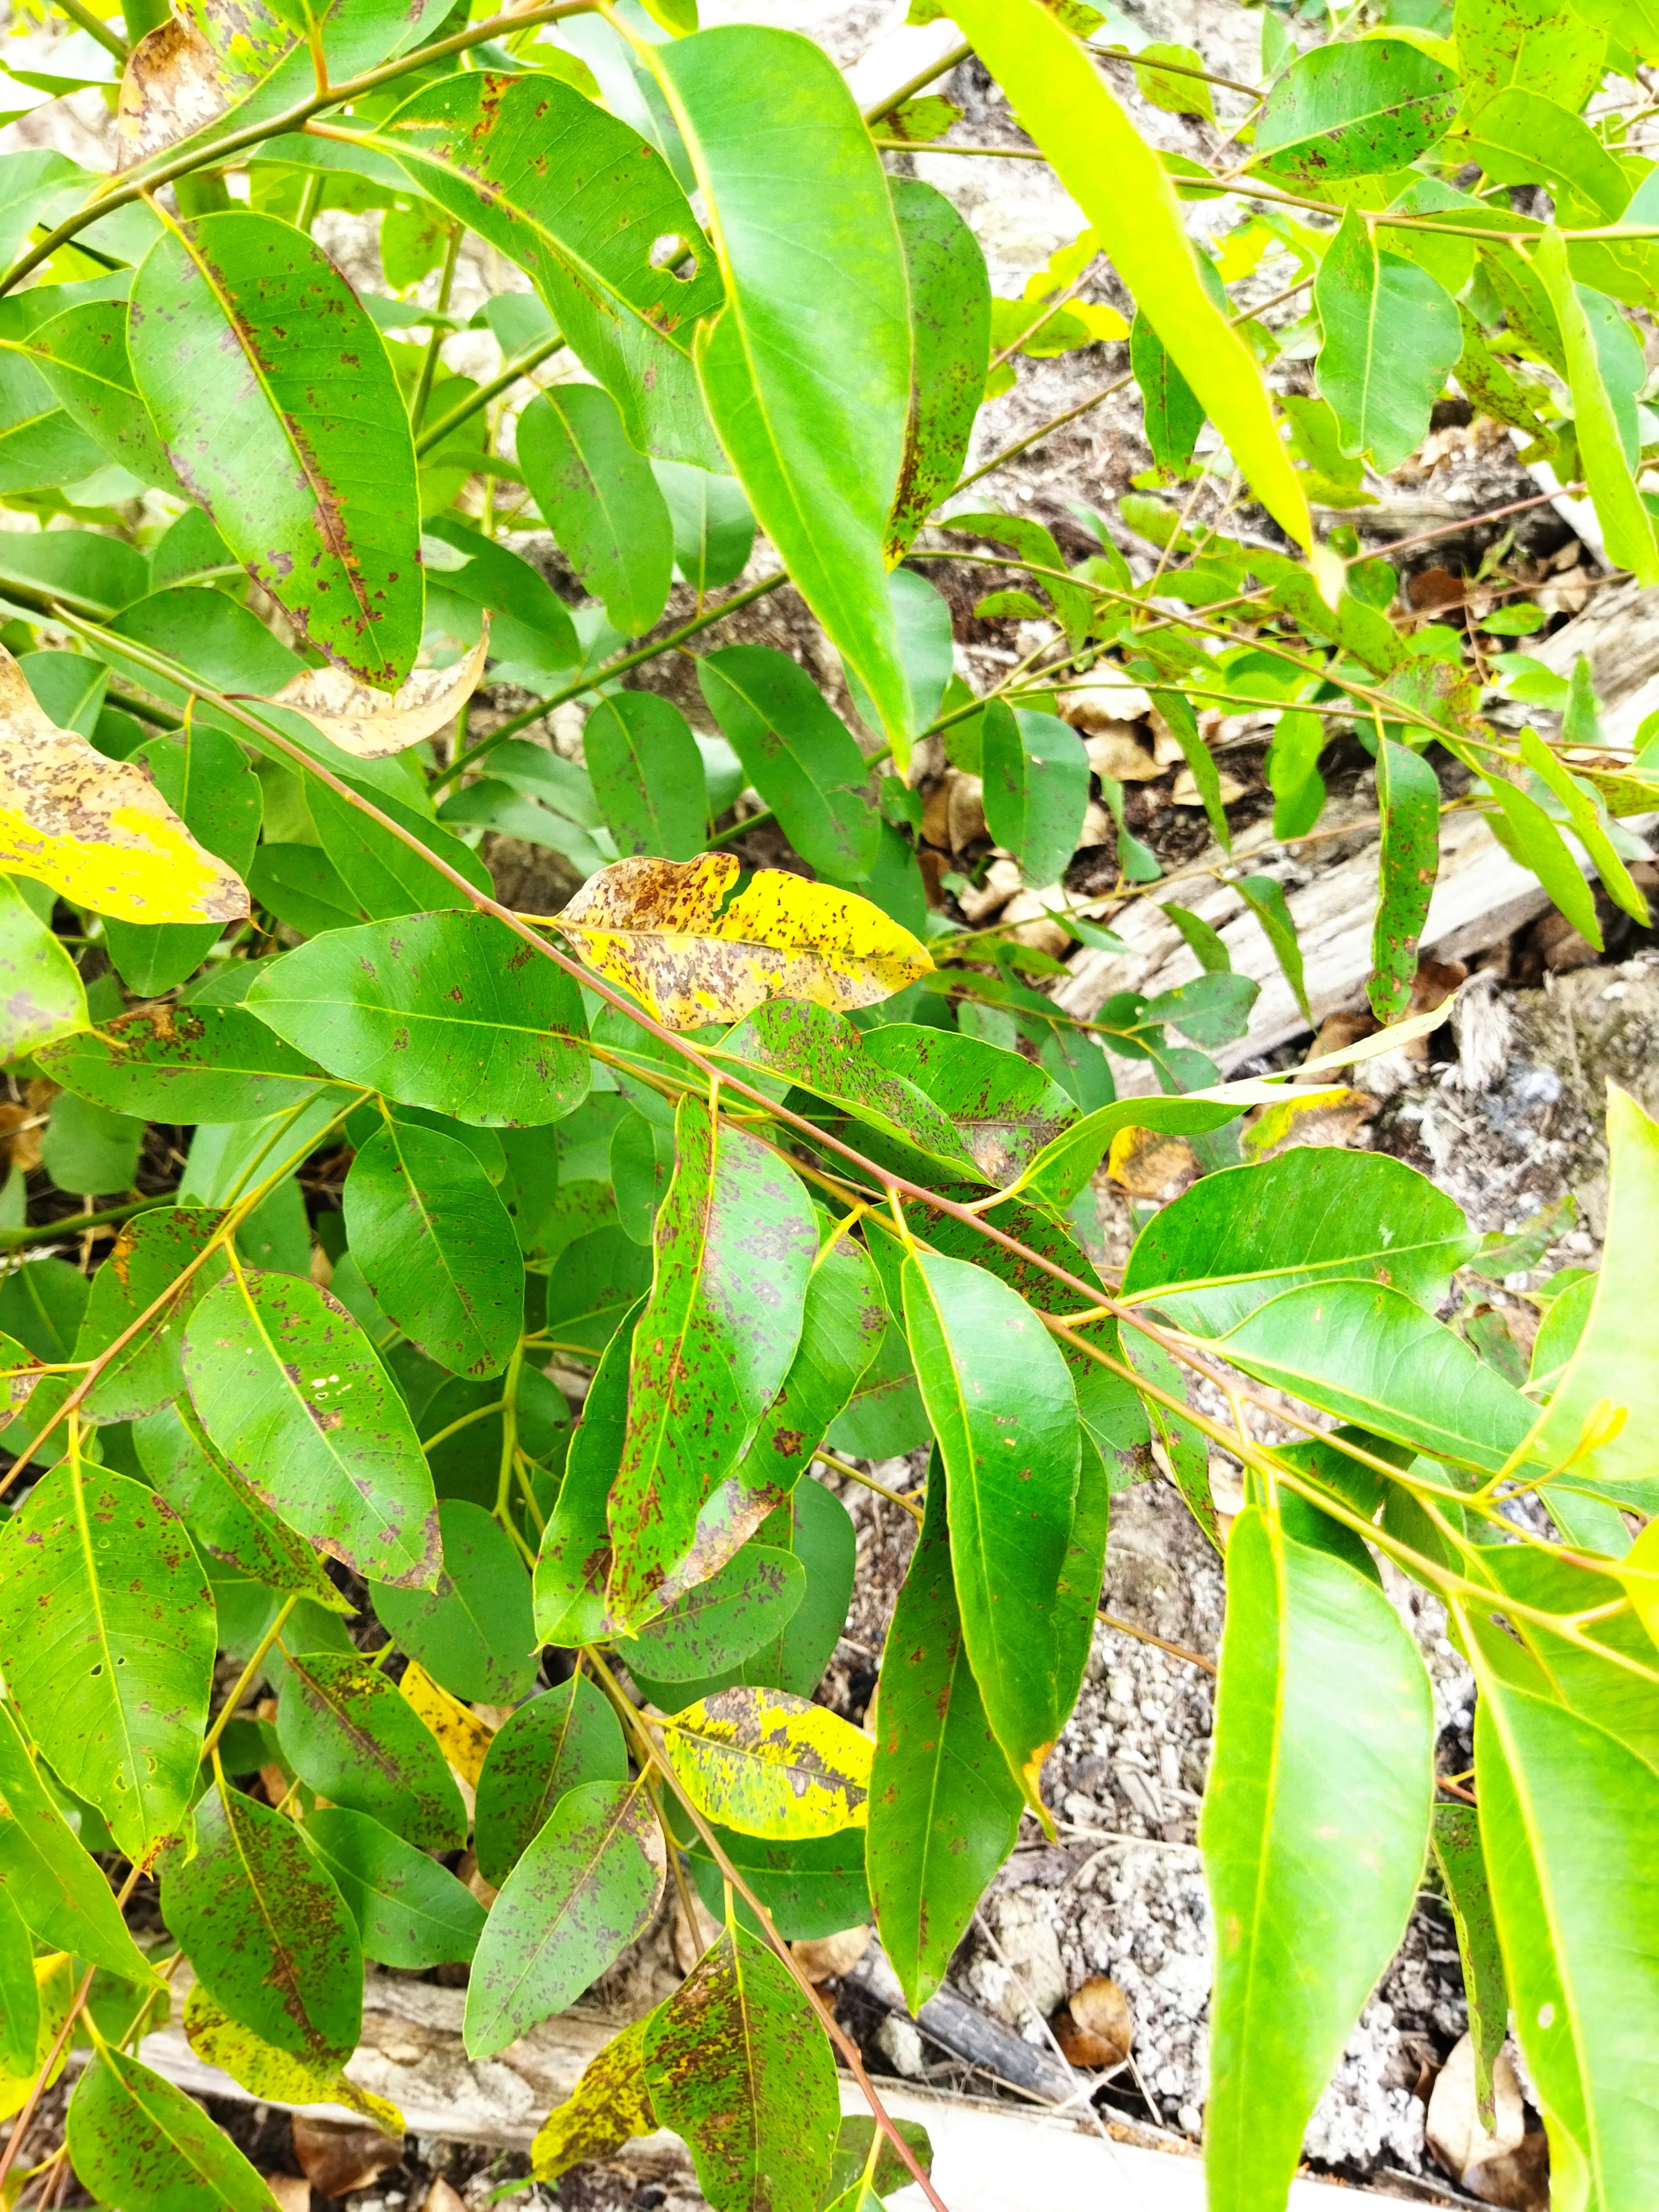Xanthomonas: (112, 200, 465, 686), (544, 841, 951, 1043), (0, 648, 232, 948), (791, 974, 1080, 1195), (162, 1804, 390, 2062), (643, 1096, 749, 1606), (659, 1919, 828, 2212), (267, 1627, 471, 1832), (648, 1688, 885, 1836)
